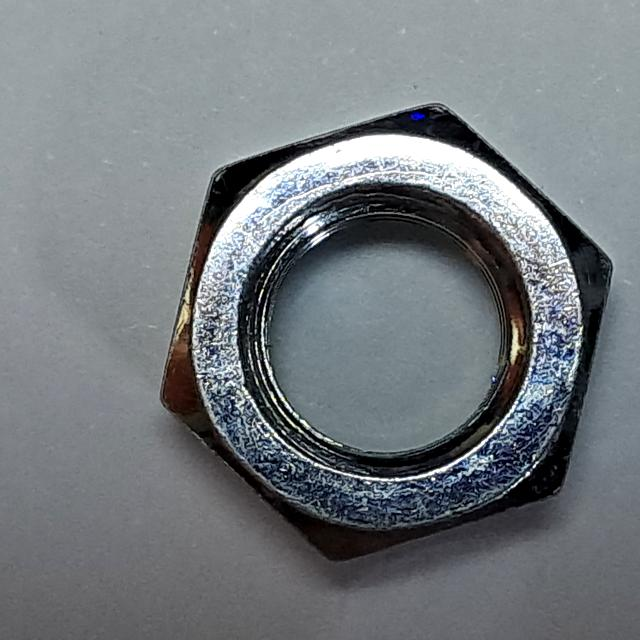Excellent: (145, 92, 626, 580)
